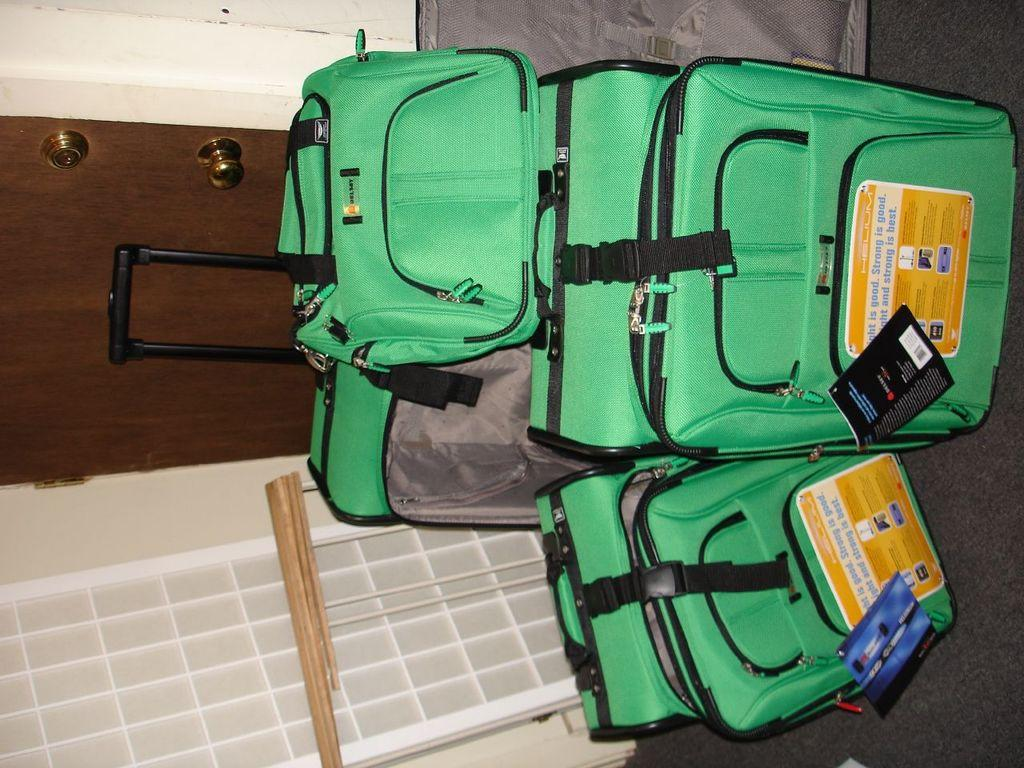Luggage-and-bags: (105, 27, 1015, 531), (533, 421, 931, 736)
